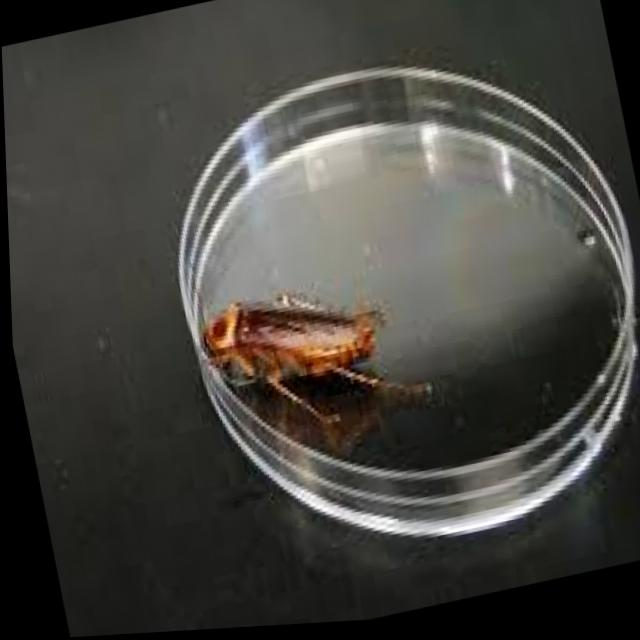Cockroach: (158, 240, 447, 490)
